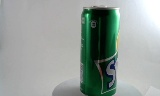sprite: (73, 4, 113, 95)
